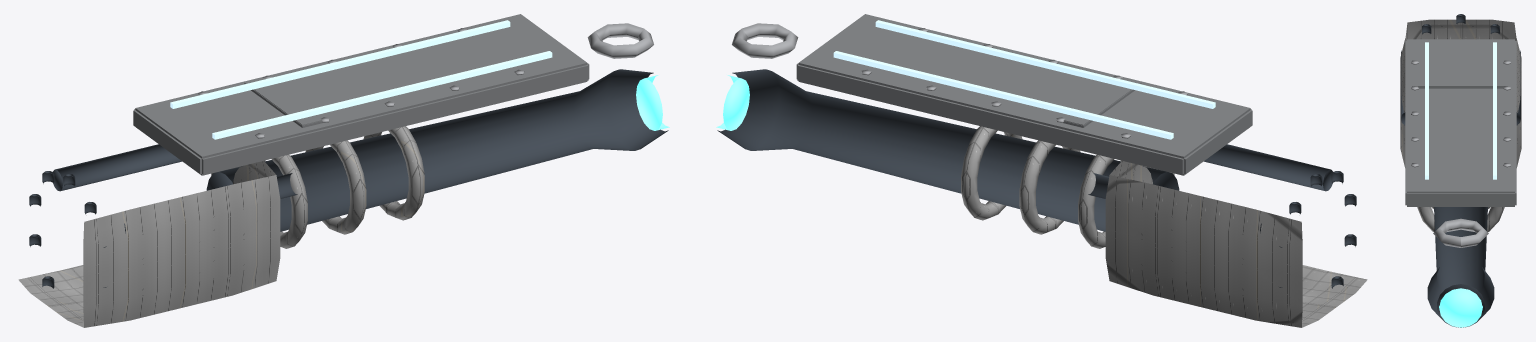
The model's file is var_weapon_pulse_cannon_military_v01.glb.
3 renders of one model, left to right at view 1: azimuth 30°, elevation 25°; view 2: azimuth 150°, elevation 25°; view 3: azimuth 270°, elevation 25°, orthographic. The views are drawn at different scales.
Parts seen in each view (by area): view 1: weapon_pulse_cannon_Material_Hull_Merged, VAR_SCN_shroud_main, weapon_pulse_cannon_Material_Mechanical_Merged, VAR_SCN_frameline_long_p, VAR_SCN_frameline_long_n, VAR_SCN_muzzlecollar, Pulse_Muzzle_Glow, VAR_SCN_twotone_band; view 2: weapon_pulse_cannon_Material_Hull_Merged, VAR_SCN_shroud_main, weapon_pulse_cannon_Material_Mechanical_Merged, VAR_SCN_frameline_long_n, VAR_SCN_frameline_long_p, VAR_SCN_muzzlecollar, Pulse_Muzzle_Glow, VAR_SCN_twotone_band; view 3: VAR_SCN_shroud_main, weapon_pulse_cannon_Material_Mechanical_Merged, weapon_pulse_cannon_Material_Hull_Merged, Pulse_Muzzle_Glow, VAR_SCN_muzzlecollar, VAR_SCN_twotone_band, VAR_SCN_frameline_long_n, VAR_SCN_frameline_long_p.
Part boxes in pixels (x1,y1,x2,y2): weapon_pulse_cannon_Material_Hull_Merged: (18,126,424,327); VAR_SCN_shroud_main: (133,14,589,175); weapon_pulse_cannon_Material_Mechanical_Merged: (29,69,668,288); VAR_SCN_frameline_long_p: (170,20,510,108); VAR_SCN_frameline_long_n: (212,51,552,139); VAR_SCN_muzzlecollar: (587,23,653,58); Pulse_Muzzle_Glow: (636,75,669,130); VAR_SCN_twotone_band: (244,78,322,127); weapon_pulse_cannon_Material_Hull_Merged: (961,126,1367,327); VAR_SCN_shroud_main: (796,14,1252,175); weapon_pulse_cannon_Material_Mechanical_Merged: (717,69,1356,288); VAR_SCN_frameline_long_n: (875,20,1215,108); VAR_SCN_frameline_long_p: (833,51,1173,139); VAR_SCN_muzzlecollar: (732,23,798,58); Pulse_Muzzle_Glow: (716,75,749,130); VAR_SCN_twotone_band: (1063,78,1141,127); VAR_SCN_shroud_main: (1405,39,1516,206); weapon_pulse_cannon_Material_Mechanical_Merged: (1401,14,1520,327); weapon_pulse_cannon_Material_Hull_Merged: (1400,19,1521,231); Pulse_Muzzle_Glow: (1439,288,1482,327); VAR_SCN_muzzlecollar: (1433,218,1488,247); VAR_SCN_twotone_band: (1413,78,1508,88); VAR_SCN_frameline_long_n: (1425,42,1428,179); VAR_SCN_frameline_long_p: (1493,42,1496,179).
Size of the model in its own units: 4.79 by 1.24 by 1.
Materials: 6 (1 with a texture image).
